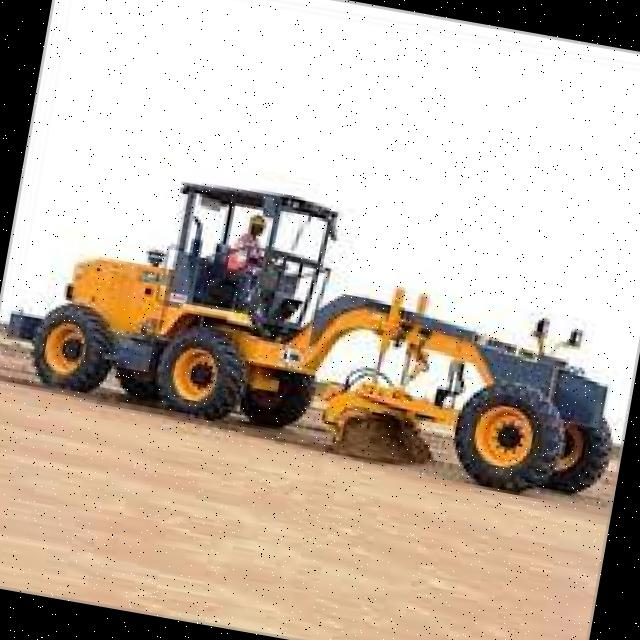Grader: (1, 122, 640, 539)
